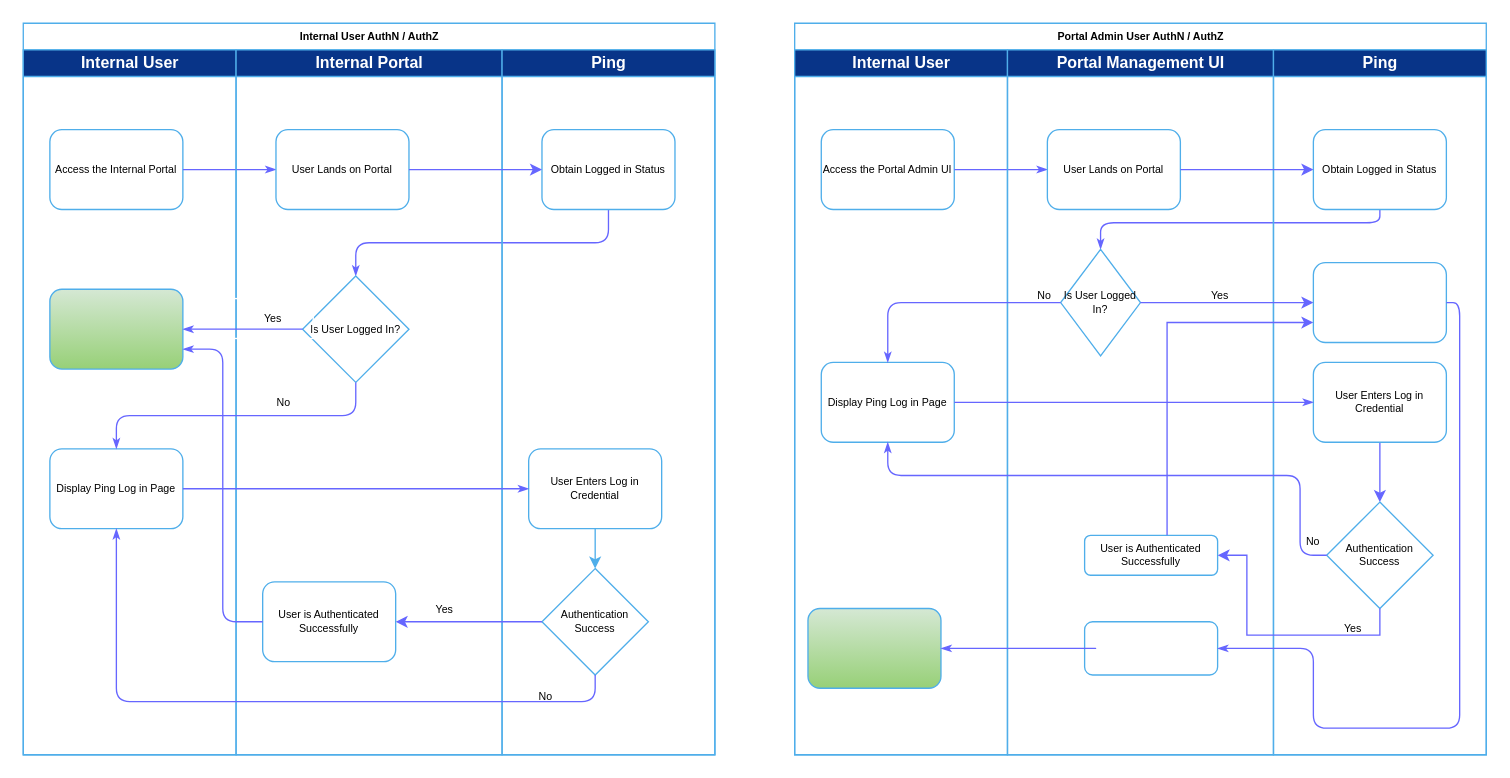
Image size: 1510x778. Some labels were removed from this diagram. Here are the shapes that lost their labels. From the top down, the centre of each, then its label:
At (x=1379, y=301): "Provide API access groups".
At (x=116, y=328): "Display Portal with complete list of APIs".
At (x=874, y=647): "Display Portal with API user has access to".
At (x=1150, y=647): "Retrieve APIs based on API access groups".
